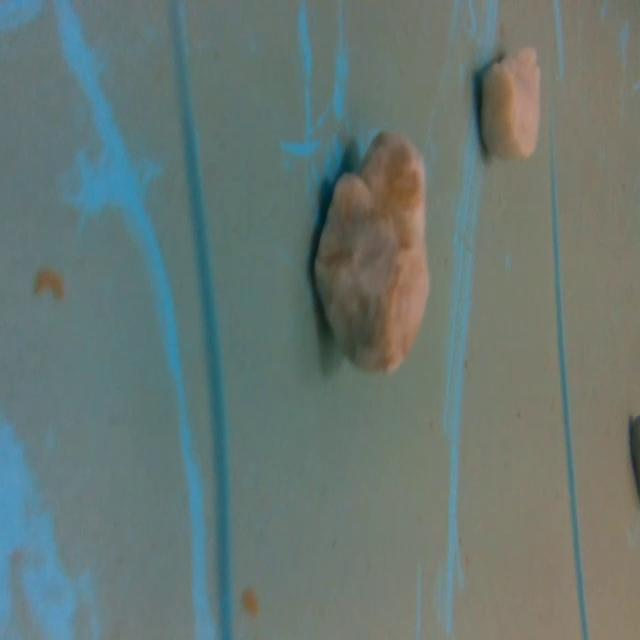rock: (306, 118, 438, 388), (471, 40, 547, 170)
